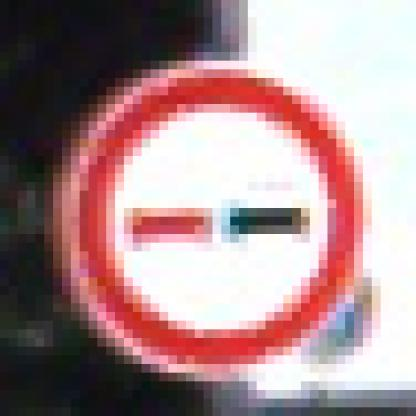No Overtaking: (54, 53, 373, 374)
